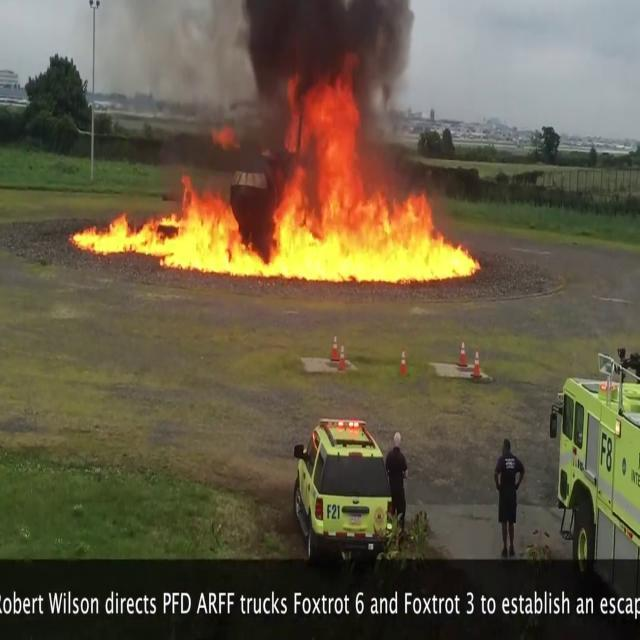Fire: (72, 96, 480, 289)
Smoke: (187, 0, 443, 138)
